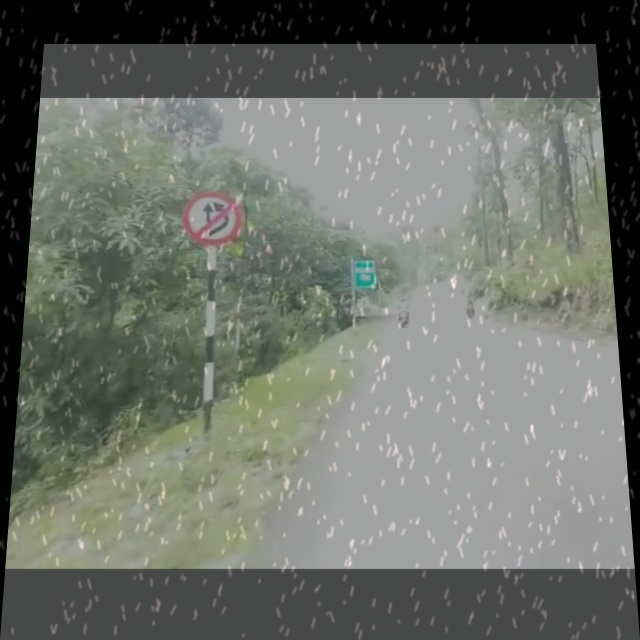Overtaking_Prohibited: (181, 191, 241, 245)
